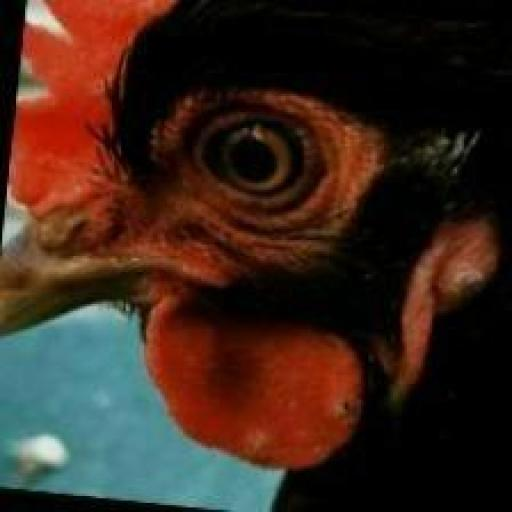disease: (209, 412, 342, 481), (297, 390, 370, 439)
